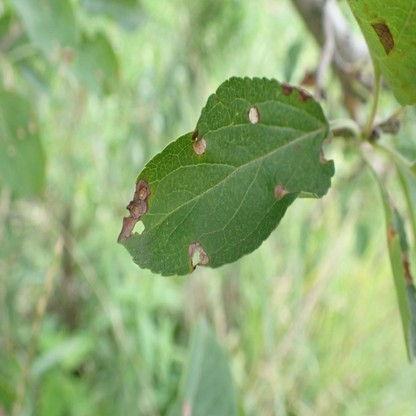frogeye: (118, 179, 150, 244), (371, 23, 394, 55), (188, 241, 210, 273), (282, 82, 312, 104), (318, 138, 332, 164), (192, 130, 206, 155), (248, 106, 260, 124), (275, 183, 288, 198)
